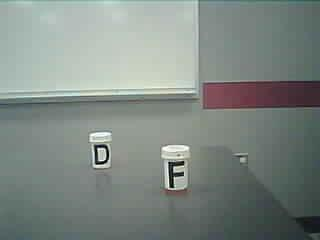Bottle D: (87, 130, 115, 173)
Bottle F: (158, 142, 194, 198)
